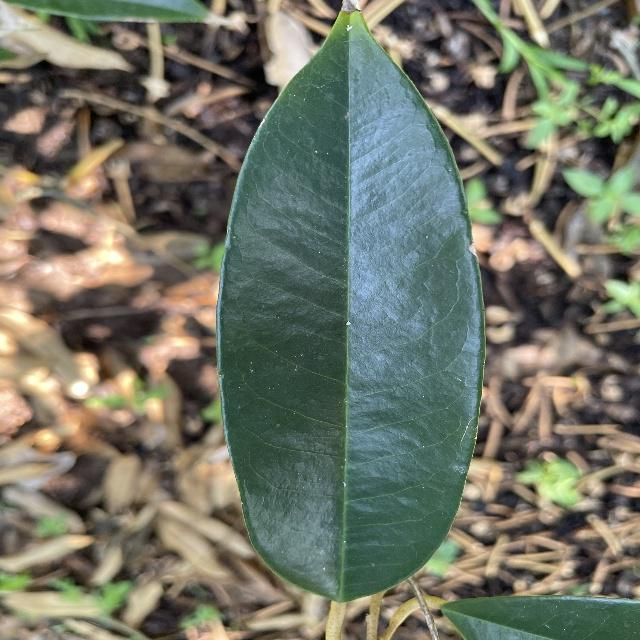No Disease: (209, 0, 493, 609)
